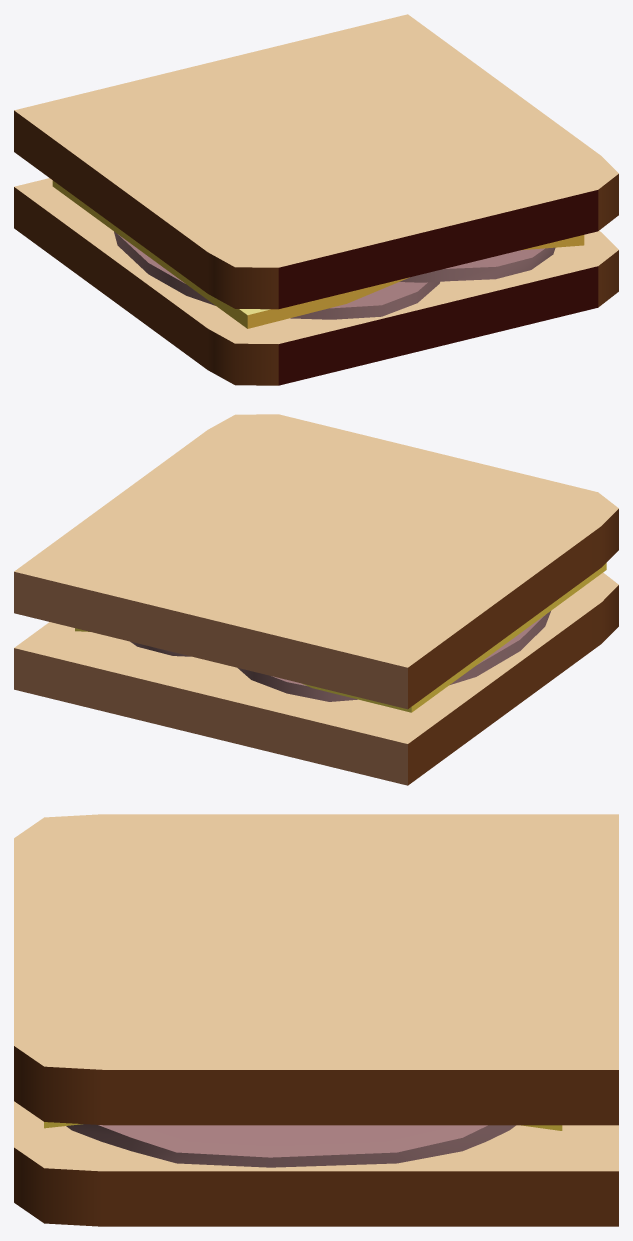
File: hamandcheese.fbx
The picture shows the model from 3 angles, top to bottom: view 1: azimuth 30°, elevation 25°; view 2: azimuth 150°, elevation 25°; view 3: azimuth 270°, elevation 25°; orthographic projection. The views are drawn at different scales.
Parts seen in each view (by area): view 1: pCube4, pCube3, pCylinder2, pCube2, pCylinder1; view 2: pCube4, pCube3, pCylinder2, pCube2; view 3: pCube4, pCube3, pCylinder1.
Part boxes in pixels (x1,y1,x2,y2): pCube4: [14, 14, 618, 309]; pCube3: [14, 178, 618, 385]; pCylinder2: [114, 231, 439, 319]; pCube2: [52, 180, 584, 328]; pCylinder1: [399, 247, 555, 282]; pCube4: [14, 414, 618, 709]; pCube3: [14, 572, 618, 785]; pCylinder2: [238, 611, 550, 701]; pCube2: [75, 563, 606, 712]; pCube4: [14, 814, 618, 1125]; pCube3: [14, 1101, 618, 1226]; pCylinder1: [66, 1124, 515, 1167].
Bounding box in the file's own units: 2.9 × 0.831 × 2.9.
Materials: 4 (4 with a texture image).
